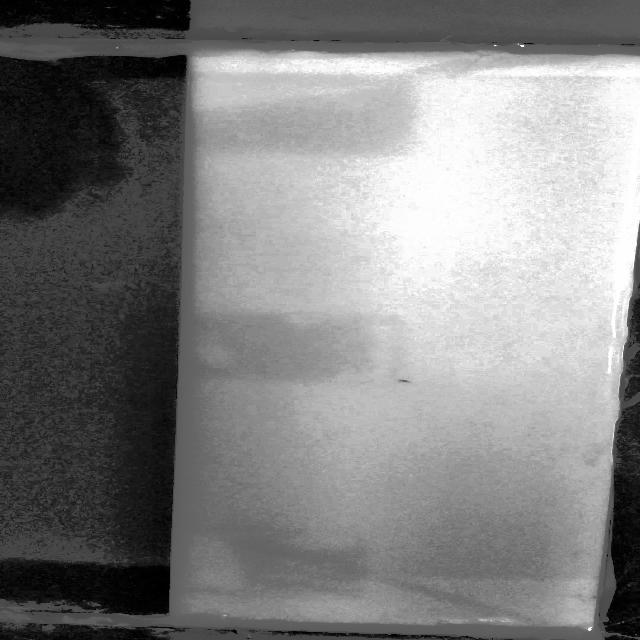shrimp: (391, 374, 419, 387)
